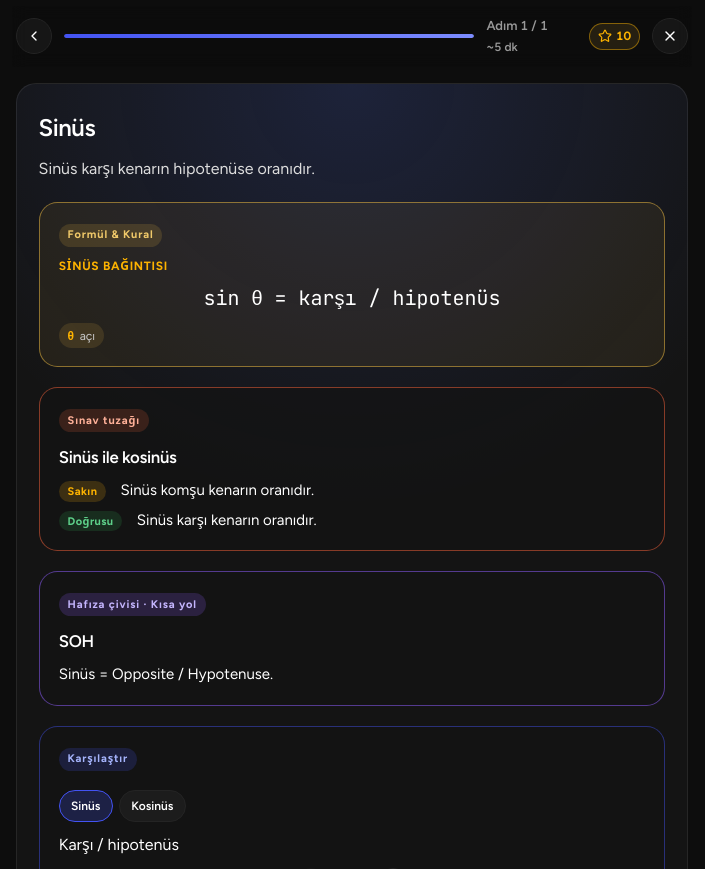
Test: ders ekranı görsel kartlar › formül simgelerini, tuzak, çivi, karşılaştırma ve genel bilgi rozetini çizer
Check: the element named "Formül ve kural" is shown, box [39,202,665,367]
Check: the text "θ" is shown, box [68,327,74,345]
Click the tab "Kosinüs". click: [152, 806]
box: [119,790,186,822]
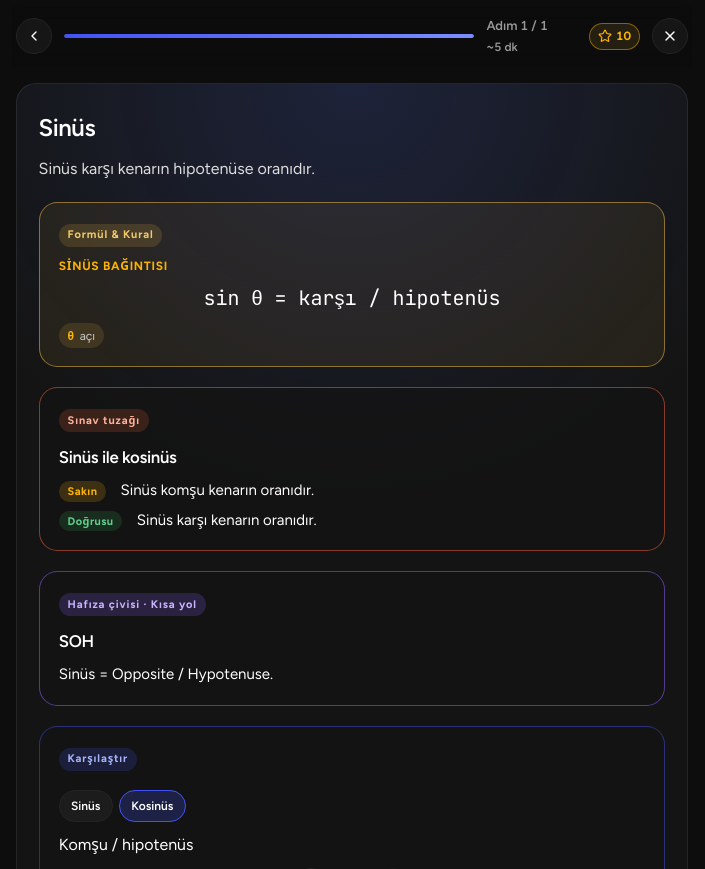
Check: the text "1 / 1" is shown, box [520,16,548,36]
Check: the text "Komşu / hipotenüs" is shown, box [59,835,194,854]
